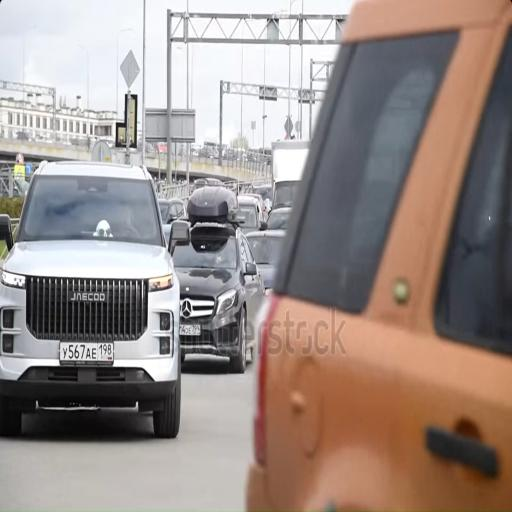License plates: (60, 342, 114, 364), (180, 324, 200, 336)
